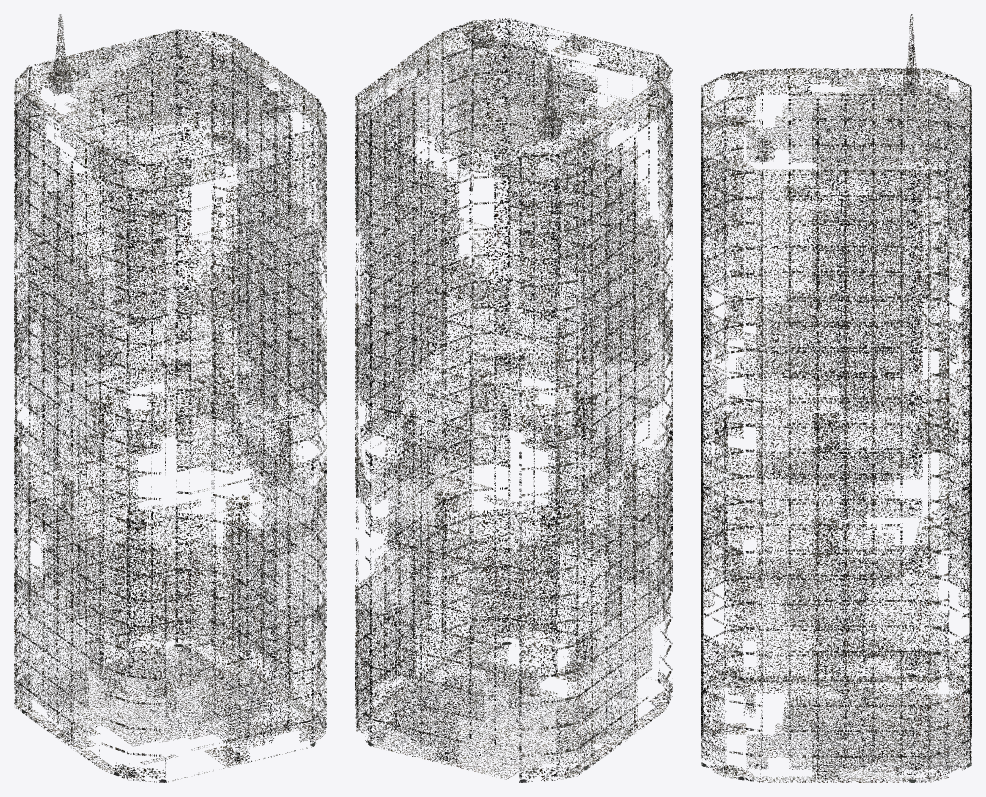
The model's file is BuildingB.fbx.
3 views of the same model, side by side, from view 1: azimuth 30°, elevation 25°; view 2: azimuth 150°, elevation 25°; view 3: azimuth 270°, elevation 25° (orthographic). The views are drawn at different scales.
Visible parts, largest first — view 1: Cube.010; view 2: Cube.010; view 3: Cube.010.
Part boxes in pixels (bbox=[...]): Cube.010: bbox=[14, 14, 326, 782]; Cube.010: bbox=[355, 18, 672, 782]; Cube.010: bbox=[701, 14, 971, 782].
Size of the model in its own units: 216 by 649 by 234.
1 material, 1 textured.
